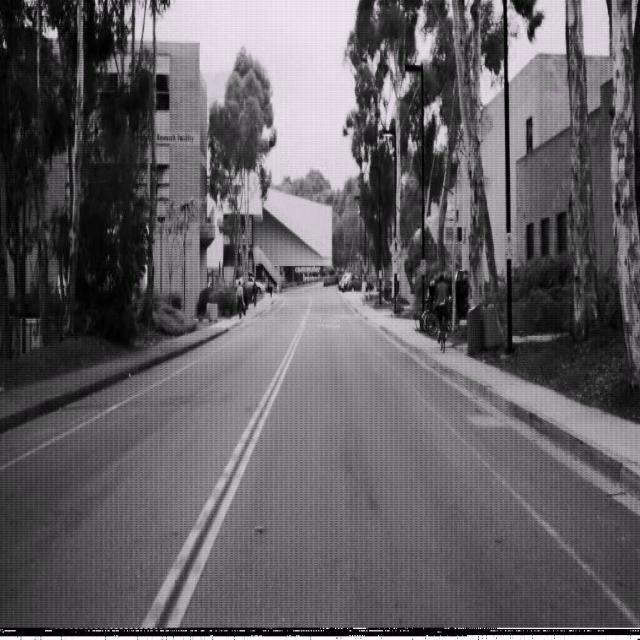pedestrianCrossing: (389, 236, 401, 261)
